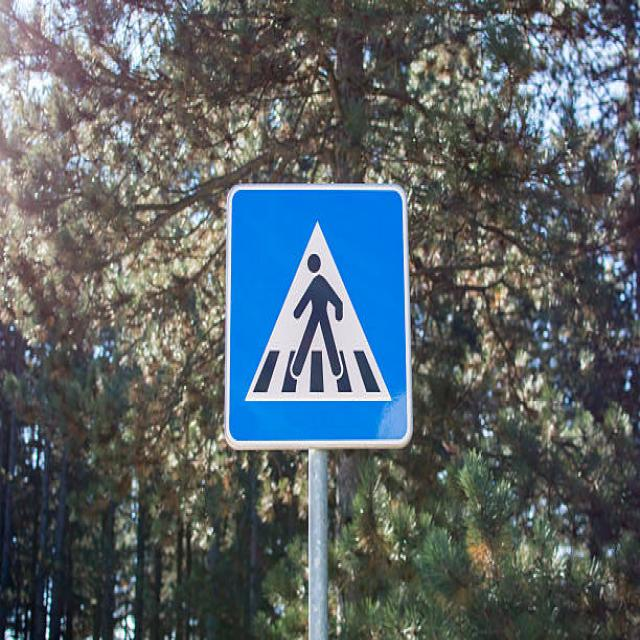crosswalk: (220, 181, 417, 460)
